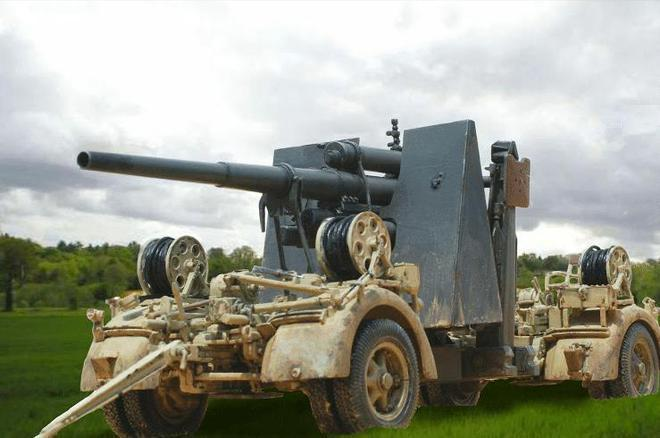MIL_SPG: (40, 120, 660, 437)
